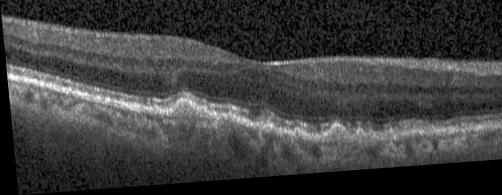retinal_drusen: (169, 104, 214, 124), (321, 130, 346, 149), (216, 117, 244, 132), (251, 127, 270, 136), (352, 131, 364, 144), (289, 130, 300, 141)
